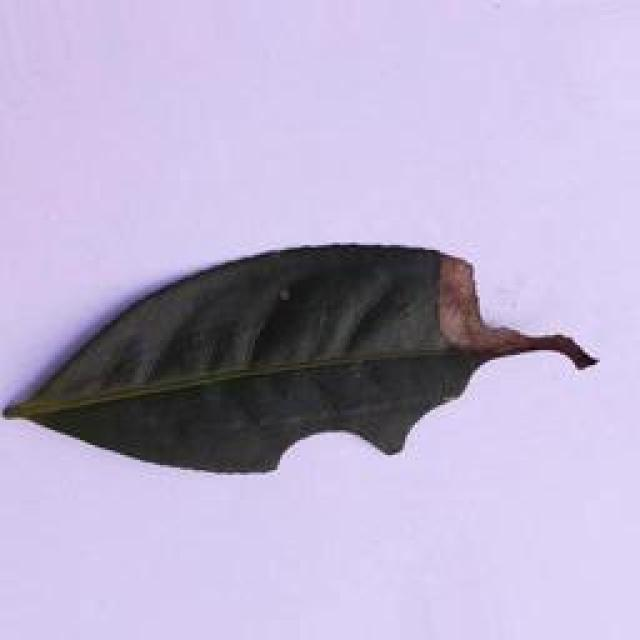Gray Blight: (8, 242, 599, 471)
